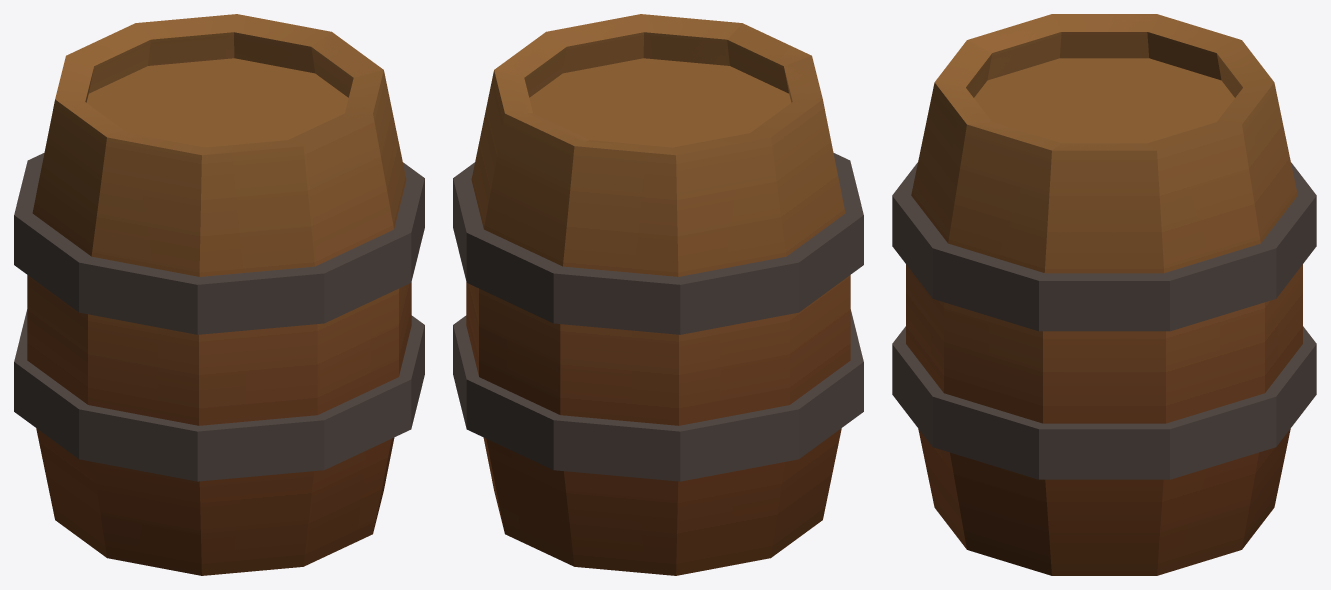
File: BreakableBarrel.fbx
3 renders of one model, left to right at view 1: azimuth 30°, elevation 25°; view 2: azimuth 150°, elevation 25°; view 3: azimuth 270°, elevation 25°, orthographic.
Visible parts, largest first — view 1: Barrel, Barrel_Ring07, Barrel_Ring08, Barrel_Part02, Barrel_Part01, Barrel_Part05, Barrel_Part03, Barrel_Part06; view 2: Barrel, Barrel_Part04, Barrel_Ring07, Barrel_Part05, Barrel_Ring08, Barrel_Part02, Barrel_Part06, Barrel_Part01, Barrel_Part03; view 3: Barrel, Barrel_Part01, Barrel_Ring07, Barrel_Ring08, Barrel_Part06, Barrel_Part03, Barrel_Part02, Barrel_Part05.
Boxes of the visible parts, <box> form: Barrel: <box>14,14,424,575</box>; Barrel_Ring07: <box>14,152,424,334</box>; Barrel_Ring08: <box>14,315,423,480</box>; Barrel_Part02: <box>200,140,317,575</box>; Barrel_Part01: <box>288,70,411,530</box>; Barrel_Part05: <box>89,31,310,93</box>; Barrel_Part03: <box>49,100,196,557</box>; Barrel_Part06: <box>311,32,383,97</box>; Barrel: <box>453,14,863,574</box>; Barrel_Part04: <box>673,133,789,575</box>; Barrel_Ring07: <box>456,152,863,334</box>; Barrel_Part05: <box>476,94,677,575</box>; Barrel_Ring08: <box>455,323,851,480</box>; Barrel_Part02: <box>727,23,811,93</box>; Barrel_Part06: <box>494,32,566,97</box>; Barrel_Part01: <box>555,17,739,65</box>; Barrel_Part03: <box>784,56,836,192</box>; Barrel: <box>892,14,1316,575</box>; Barrel_Part01: <box>906,82,1057,572</box>; Barrel_Ring07: <box>892,162,1316,331</box>; Barrel_Ring08: <box>892,344,1308,473</box>; Barrel_Part06: <box>1043,143,1161,546</box>; Barrel_Part03: <box>967,14,1156,80</box>; Barrel_Part02: <box>935,40,991,97</box>; Barrel_Part05: <box>1161,66,1296,272</box>.
Bounding box in the file's own units: 112 × 130 × 118.
